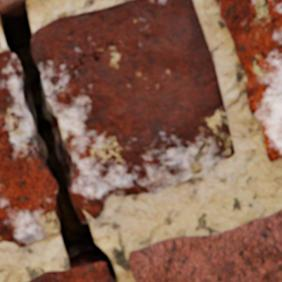brick: (128, 209, 281, 281), (214, 0, 281, 161), (28, 261, 115, 281), (0, 0, 26, 11)
broken_brick: (31, 0, 233, 218), (0, 51, 59, 246)
crack: (0, 1, 115, 280), (78, 51, 102, 66), (0, 125, 18, 137), (65, 70, 74, 85), (104, 42, 118, 49)
